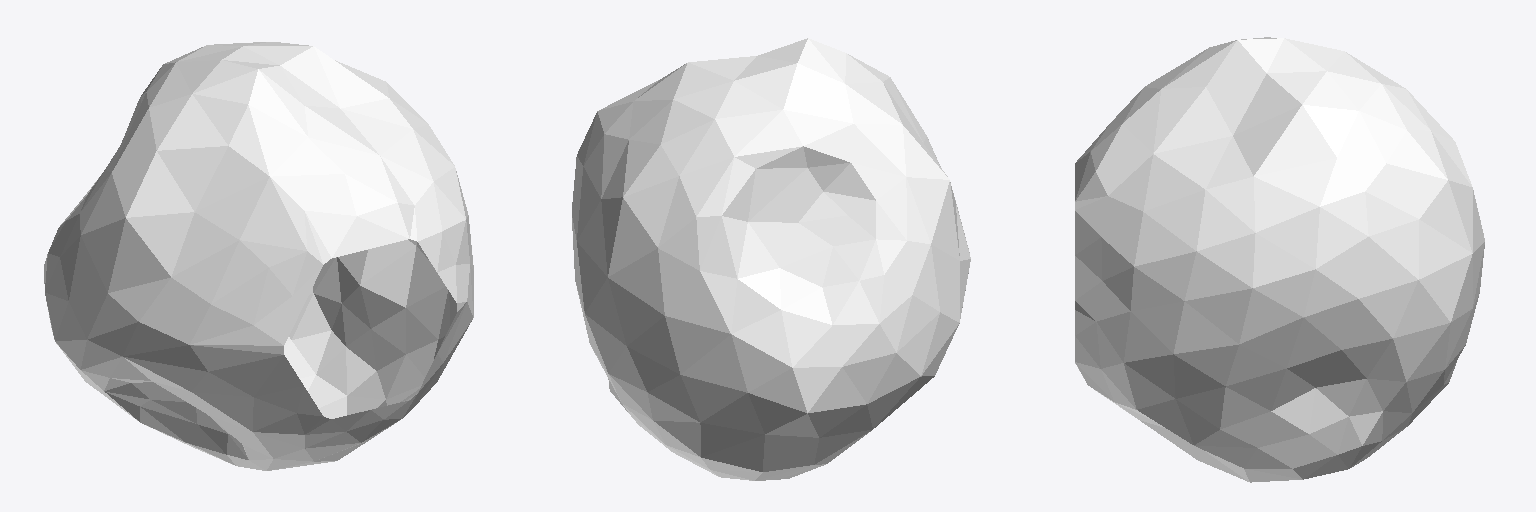
Rendered from oolite_rock_hermit_rock.obj.
The picture shows the model from 3 angles: view 1: azimuth 30°, elevation 25°; view 2: azimuth 150°, elevation 25°; view 3: azimuth 270°, elevation 25°; orthographic projection.
Visible parts, largest first — view 1: oolite_rock_hermit_rock.obj; view 2: oolite_rock_hermit_rock.obj; view 3: oolite_rock_hermit_rock.obj.
Boxes of the visible parts, x1=… form: oolite_rock_hermit_rock.obj: x1=44, y1=42, x2=473, y2=470; oolite_rock_hermit_rock.obj: x1=572, y1=38, x2=970, y2=480; oolite_rock_hermit_rock.obj: x1=1075, y1=37, x2=1484, y2=482.
Size of the model in its own units: 916 by 1004 by 903.